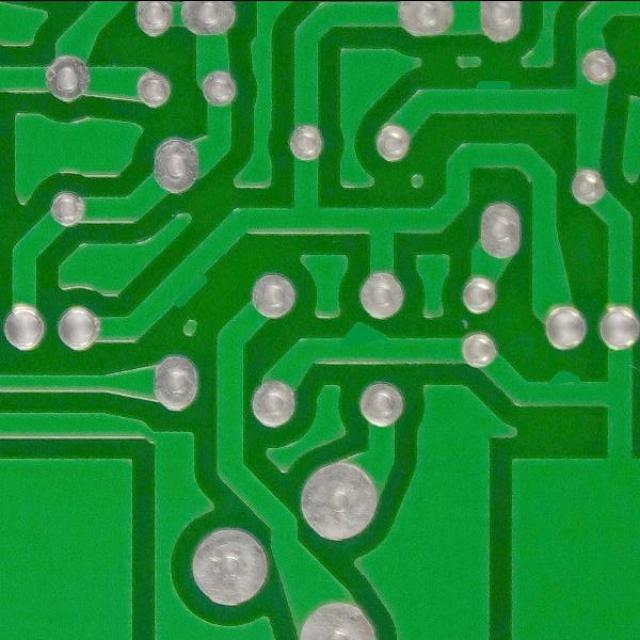spur: (168, 259, 214, 316), (334, 319, 393, 360), (470, 75, 520, 110), (542, 362, 589, 394), (81, 1, 126, 22)
